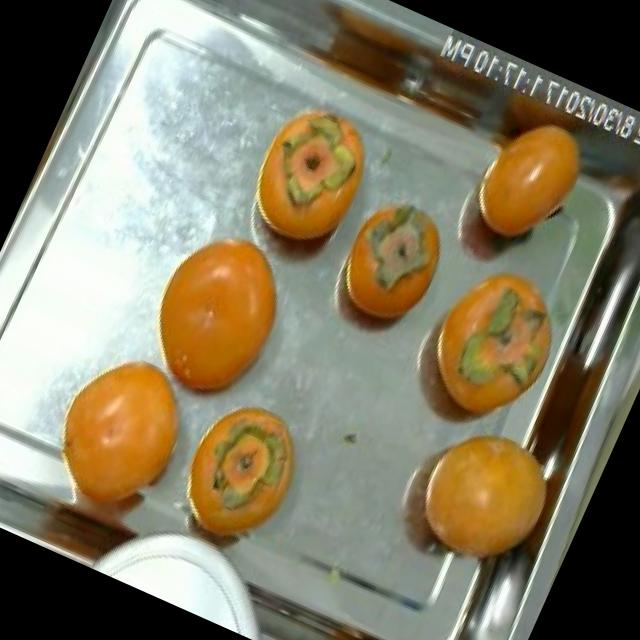Fruit: (110, 198, 322, 442), (378, 225, 589, 468), (361, 381, 581, 608), (18, 320, 226, 550), (148, 372, 336, 578), (308, 172, 475, 368), (226, 79, 394, 272), (445, 90, 610, 272)
